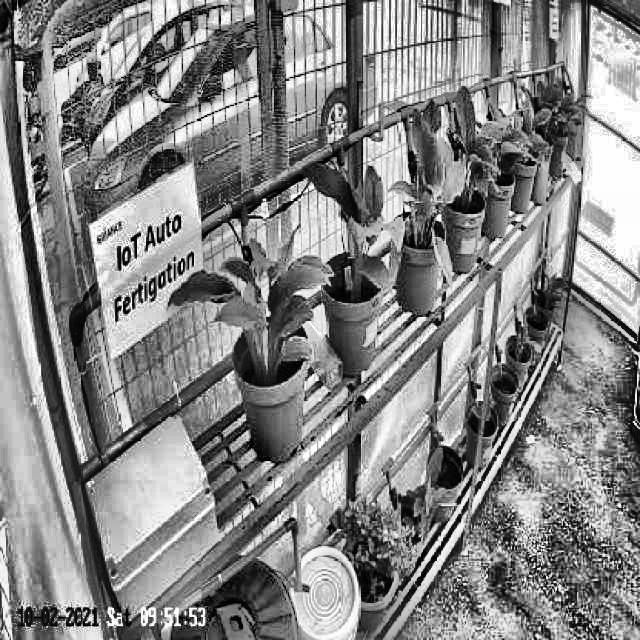plants: (168, 218, 332, 382), (304, 160, 406, 300), (383, 100, 451, 282), (440, 88, 506, 205)
